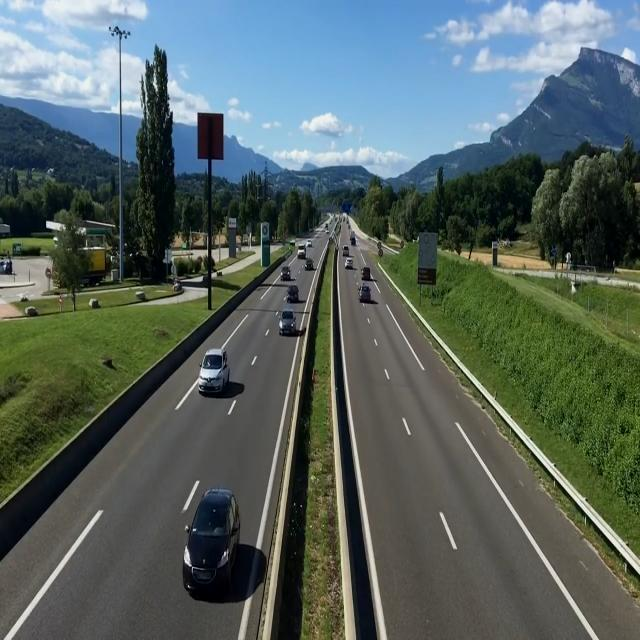Car: (180, 488, 242, 597), (195, 348, 229, 394), (278, 309, 297, 335), (358, 285, 371, 302), (287, 286, 299, 302), (280, 266, 291, 280), (344, 257, 354, 269), (304, 258, 314, 270), (342, 246, 350, 256), (306, 240, 312, 248)
Truck: (297, 245, 307, 258)
